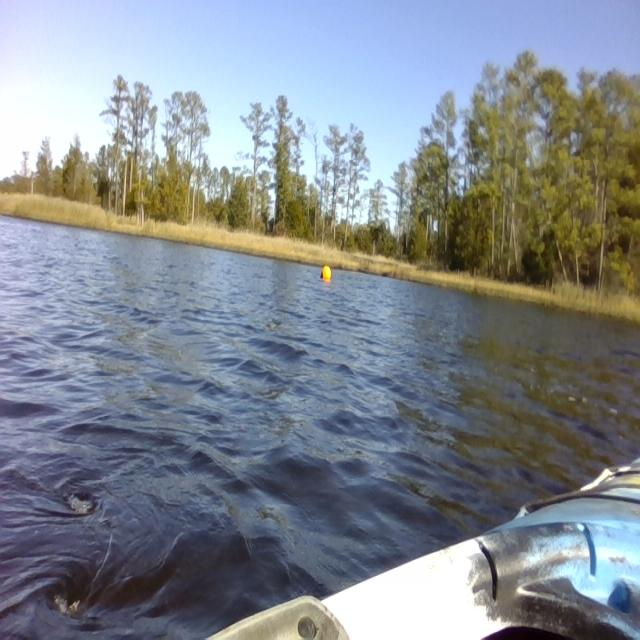Buoy: (318, 261, 333, 285)
